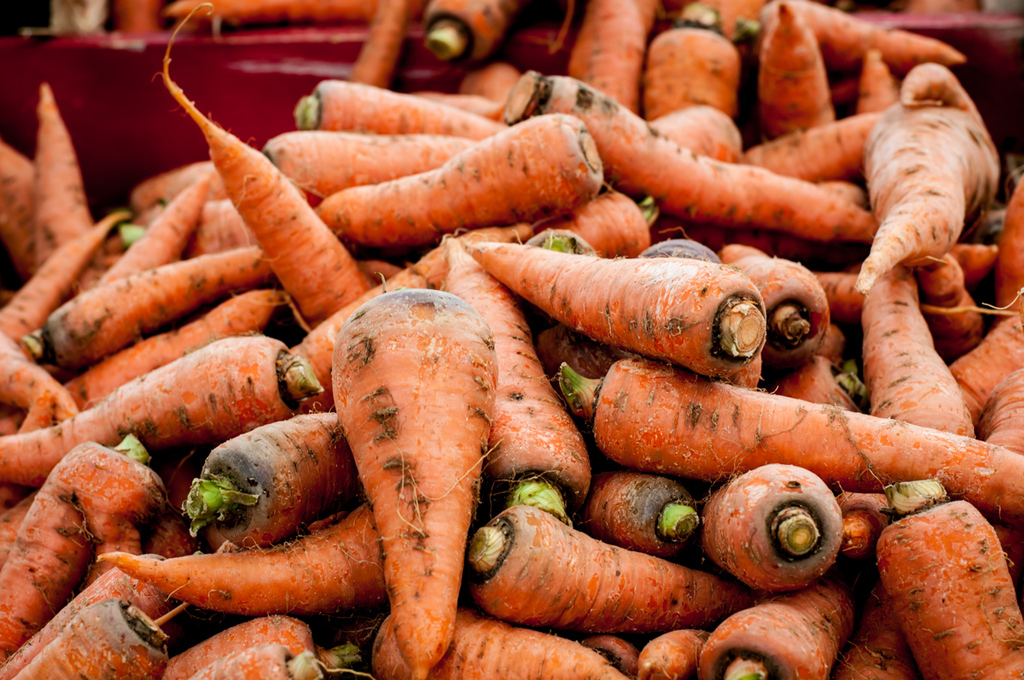Carrot: (0, 0, 1024, 680)
